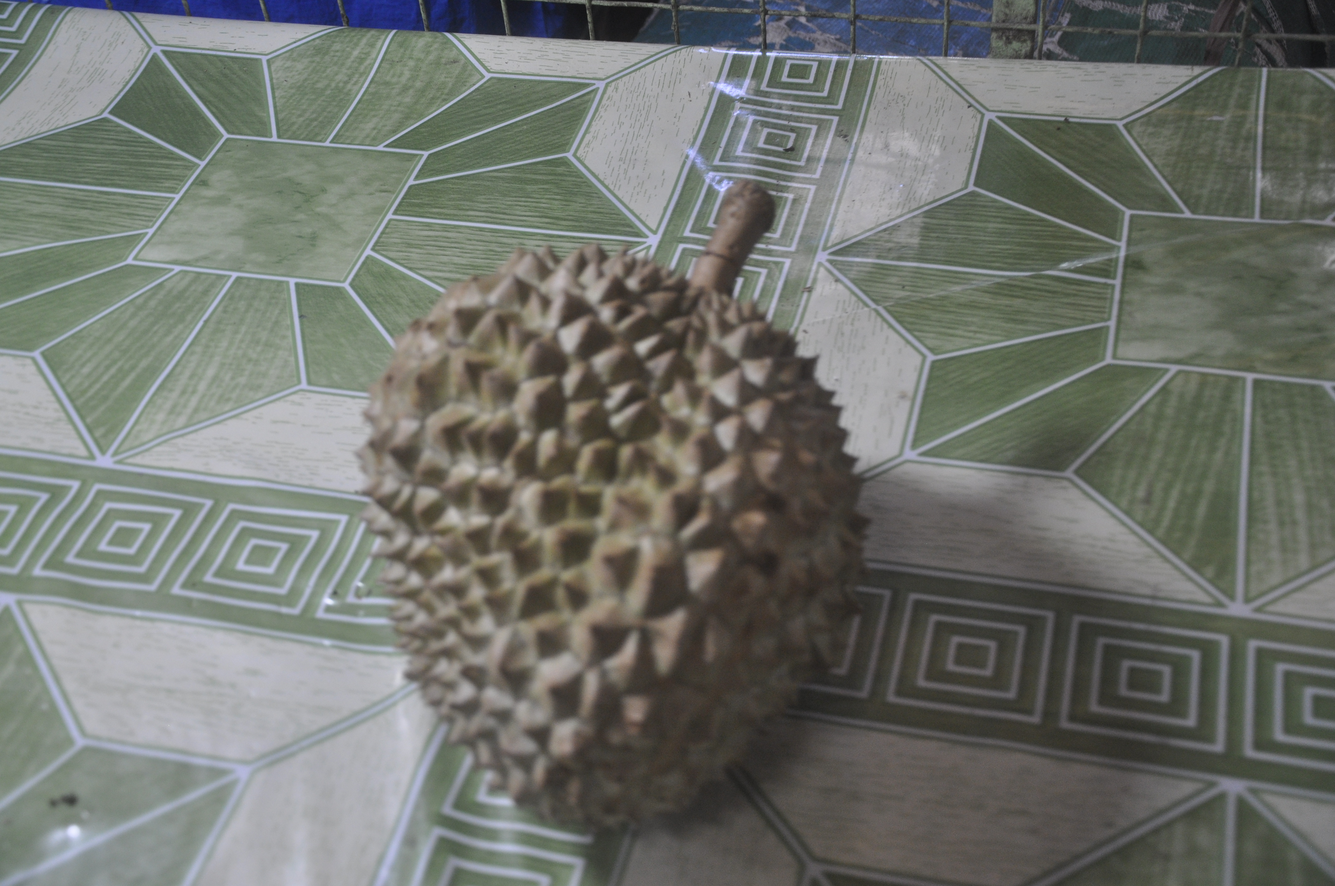mature: (359, 182, 867, 826)
